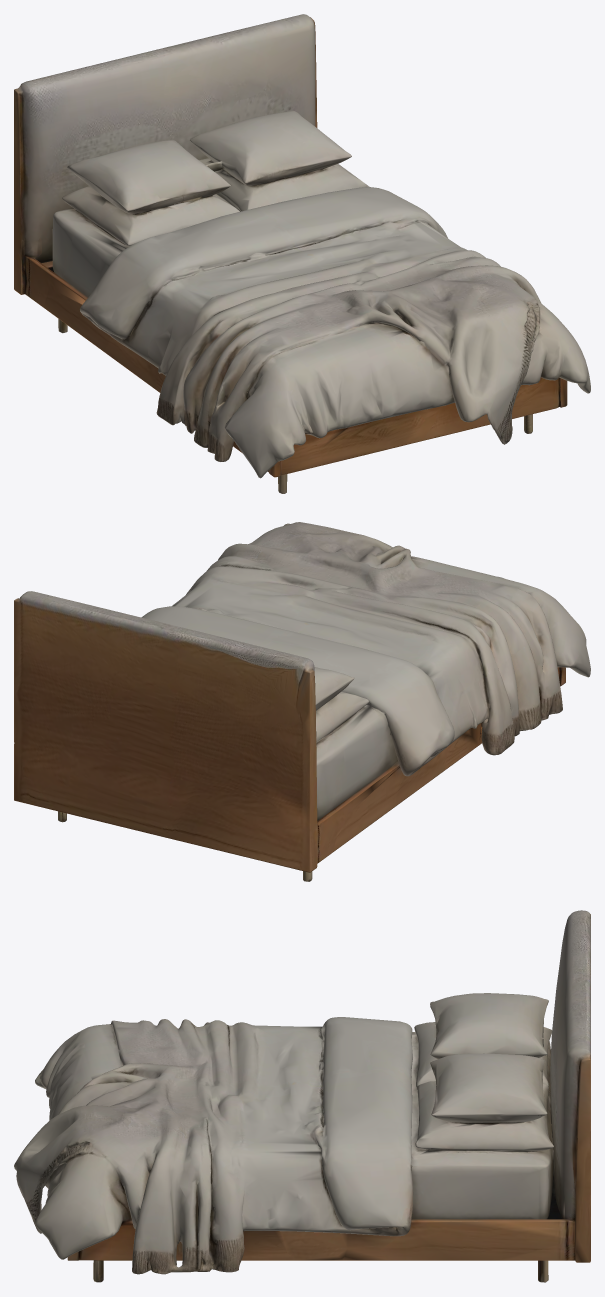
Rendered from bed_double.4c1cfa5b.glb.
3 renders of one model, top to bottom at view 1: azimuth 30°, elevation 25°; view 2: azimuth 150°, elevation 25°; view 3: azimuth 270°, elevation 25°, orthographic.
Parts seen in each view (by area): view 1: tripo_node_9a3953af-d5fd-4c47-8cae-70f6636c3f10; view 2: tripo_node_9a3953af-d5fd-4c47-8cae-70f6636c3f10; view 3: tripo_node_9a3953af-d5fd-4c47-8cae-70f6636c3f10.
Part boxes in pixels (x1=…): tripo_node_9a3953af-d5fd-4c47-8cae-70f6636c3f10: x1=14, y1=14, x2=590, y2=493; tripo_node_9a3953af-d5fd-4c47-8cae-70f6636c3f10: x1=14, y1=522, x2=590, y2=881; tripo_node_9a3953af-d5fd-4c47-8cae-70f6636c3f10: x1=14, y1=910, x2=590, y2=1282.
Size of the model in its own units: 1.45 by 0.9468 by 2.05.
1 material, 1 textured.
